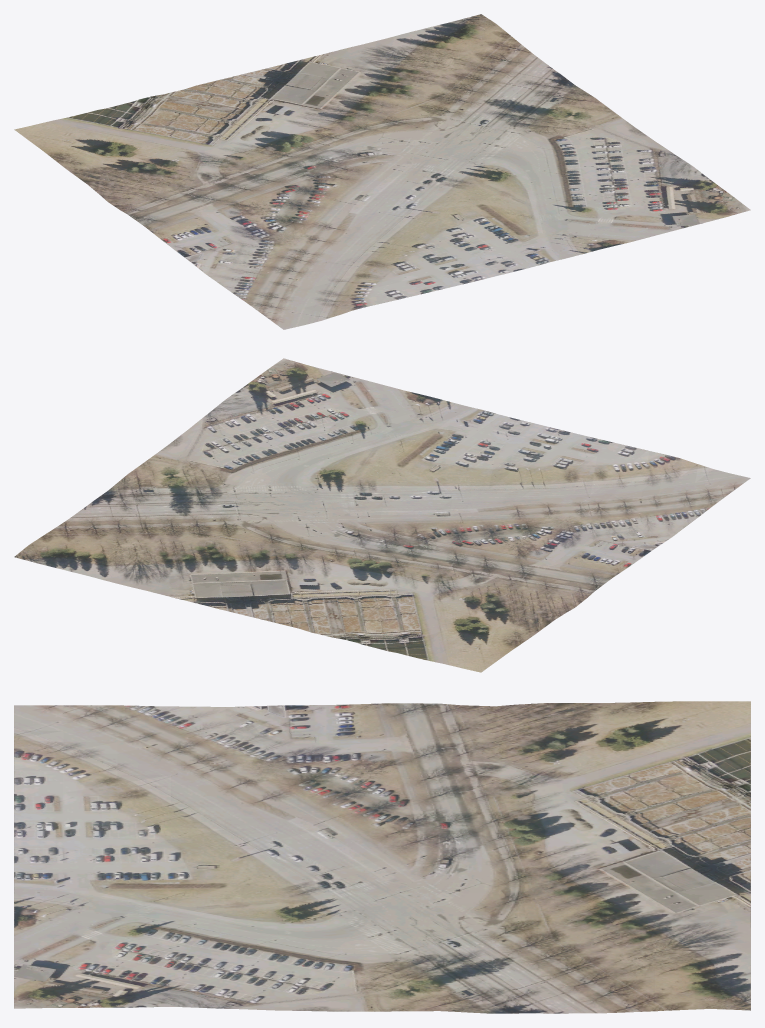
Rendered from CM_Terrain_24487387_6819589.fbx.
The picture shows the model from 3 angles, top to bottom: view 1: azimuth 30°, elevation 25°; view 2: azimuth 150°, elevation 25°; view 3: azimuth 270°, elevation 25°; orthographic projection. The views are drawn at different scales.
Parts seen in each view (by area): view 1: CM_Terrain_24487387_6819589_LOD0; view 2: CM_Terrain_24487387_6819589_LOD0; view 3: CM_Terrain_24487387_6819589_LOD0.
Boxes of the visible parts, bbox=[...] form: CM_Terrain_24487387_6819589_LOD0: bbox=[14, 14, 750, 329]; CM_Terrain_24487387_6819589_LOD0: bbox=[14, 358, 750, 672]; CM_Terrain_24487387_6819589_LOD0: bbox=[14, 701, 750, 1013].
Size of what is drawn, in the model's own units: 205 by 3.7 by 205.
